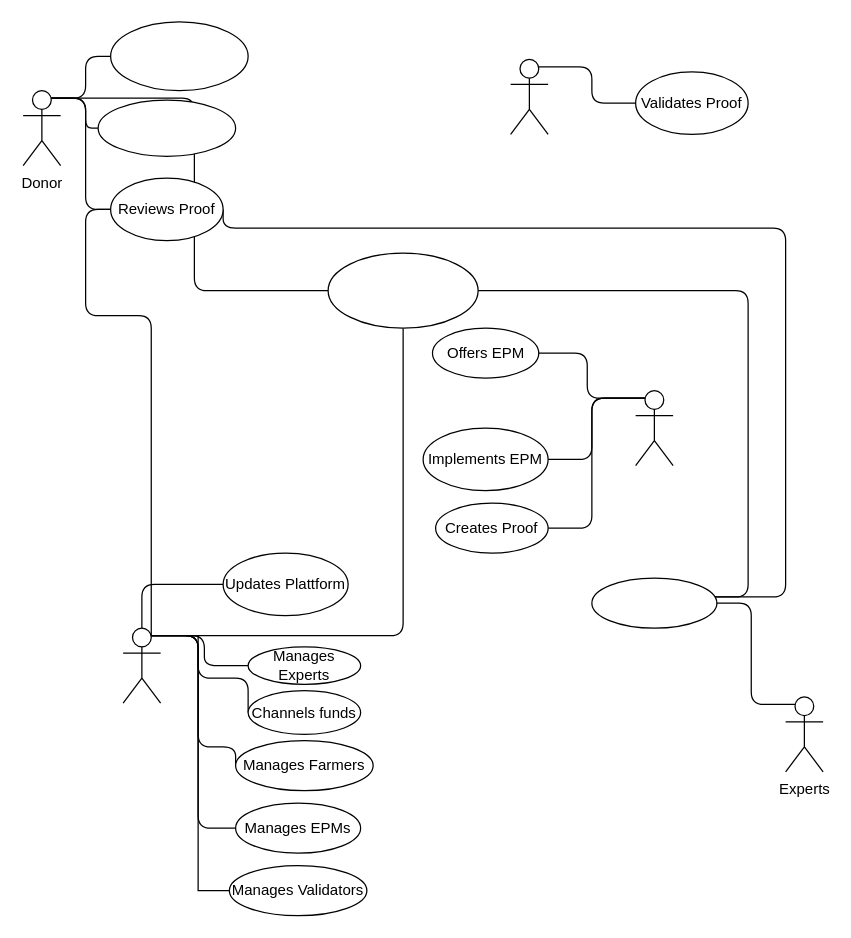
Image size: 851x938. Some labels were removed from this diagram. The shapes that lost their labels are listed below. From the top down, each one's box as (x1, y1, x2, y2) in pixels, then its label:
(109, 21, 248, 91): Selects and configures EPM
(509, 58, 548, 134): Validator
(97, 99, 236, 156): Sends Donation
(327, 252, 478, 328): Reviews Donation Process
(634, 389, 673, 466): Farmer
(591, 577, 717, 628): Reviews EPMs
(122, 627, 161, 703): Administrator
